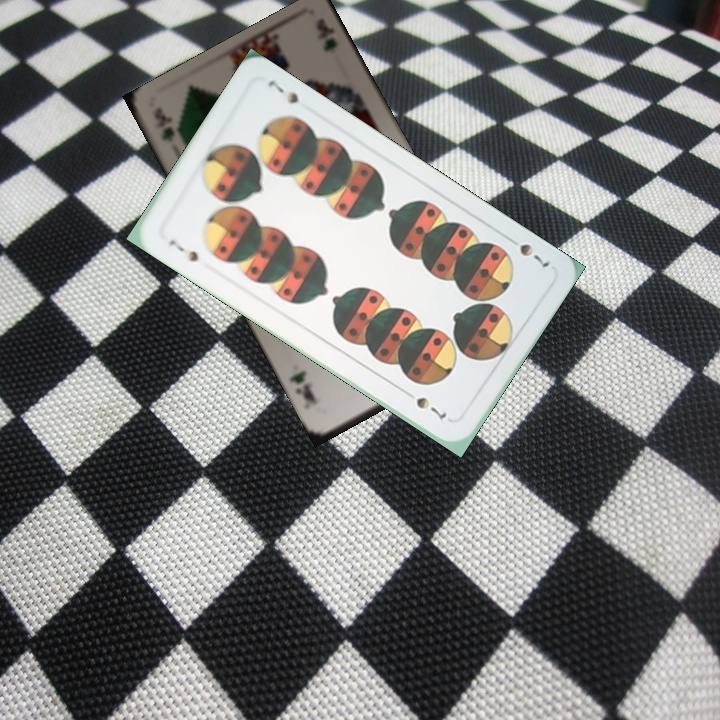GK: (153, 104, 177, 144)
S7: (502, 232, 553, 270), (165, 235, 201, 264)
